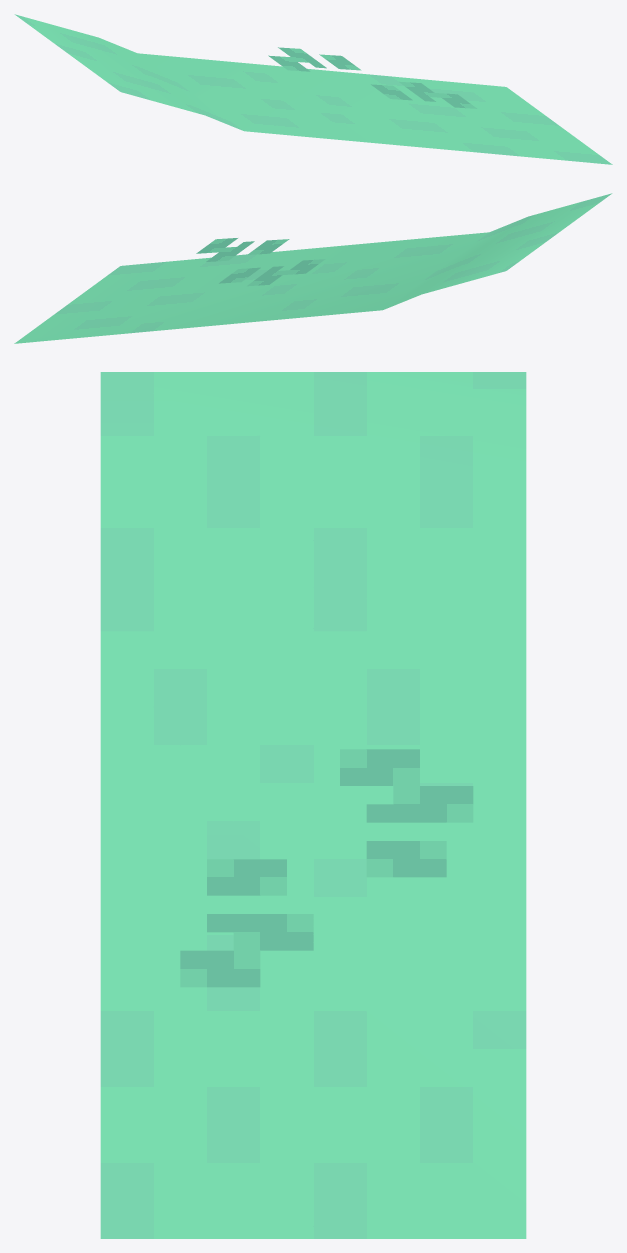
The picture shows the model from 3 angles, top to bottom: view 1: azimuth 30°, elevation 25°; view 2: azimuth 150°, elevation 25°; view 3: azimuth 270°, elevation 25°; orthographic projection. The views are drawn at different scales.
Size of the model in its own units: 2.67 by 1 by 1.
2 materials, 2 textured.
